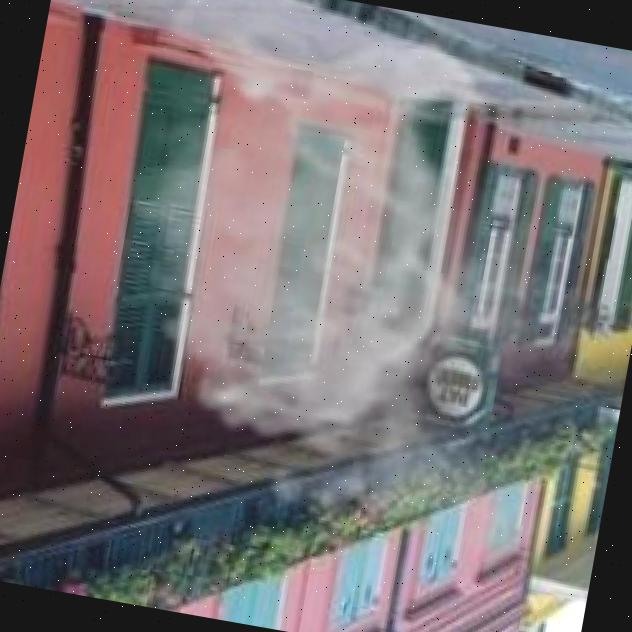smoke: (55, 0, 632, 593)
